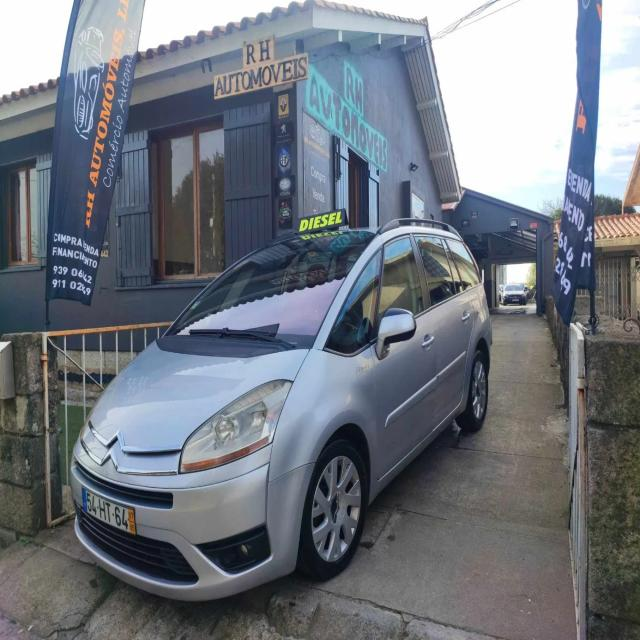portuguese-license-plates: (81, 486, 139, 538)
